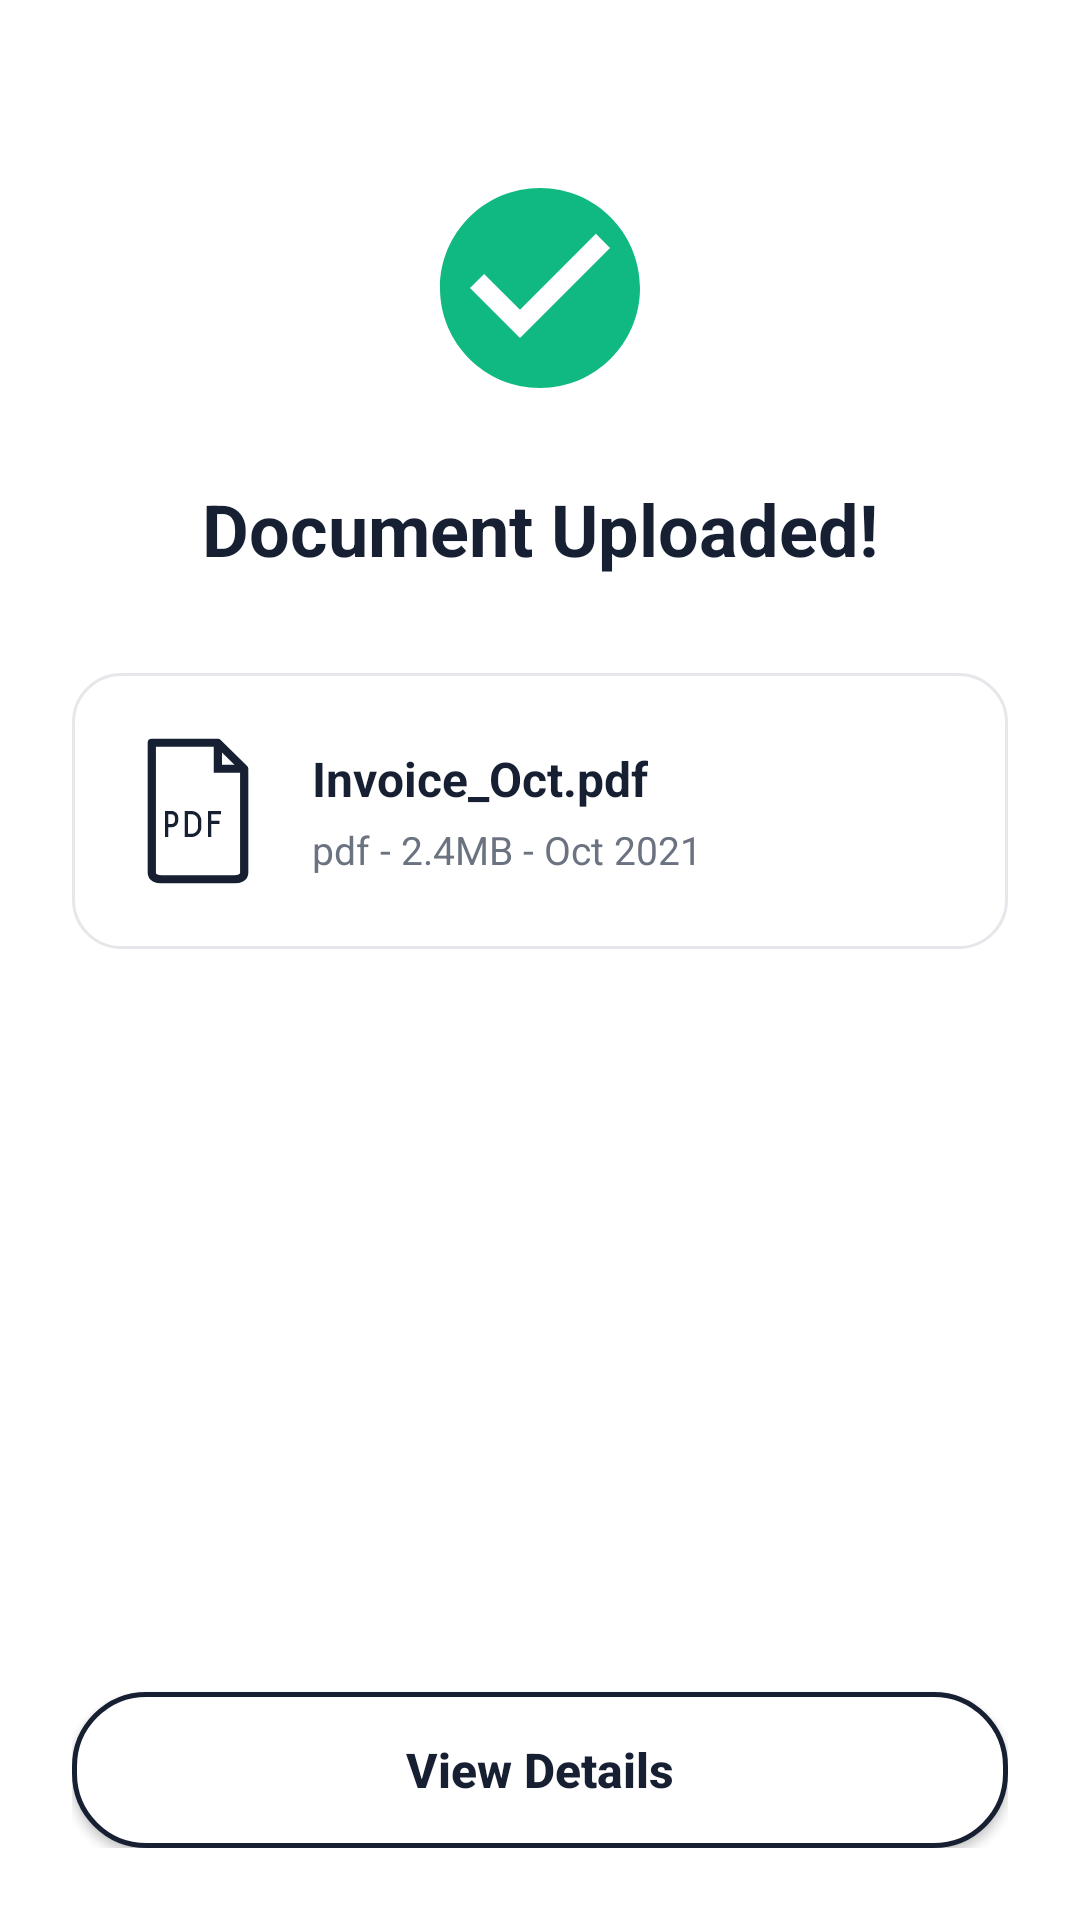

Where to tap for icons on this 1080px×1920px app screen, as point (x, y):
Success: point (539, 288)
